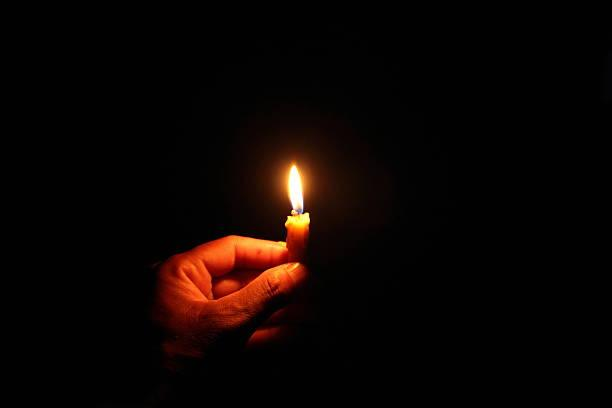Fire: (280, 154, 319, 214)
